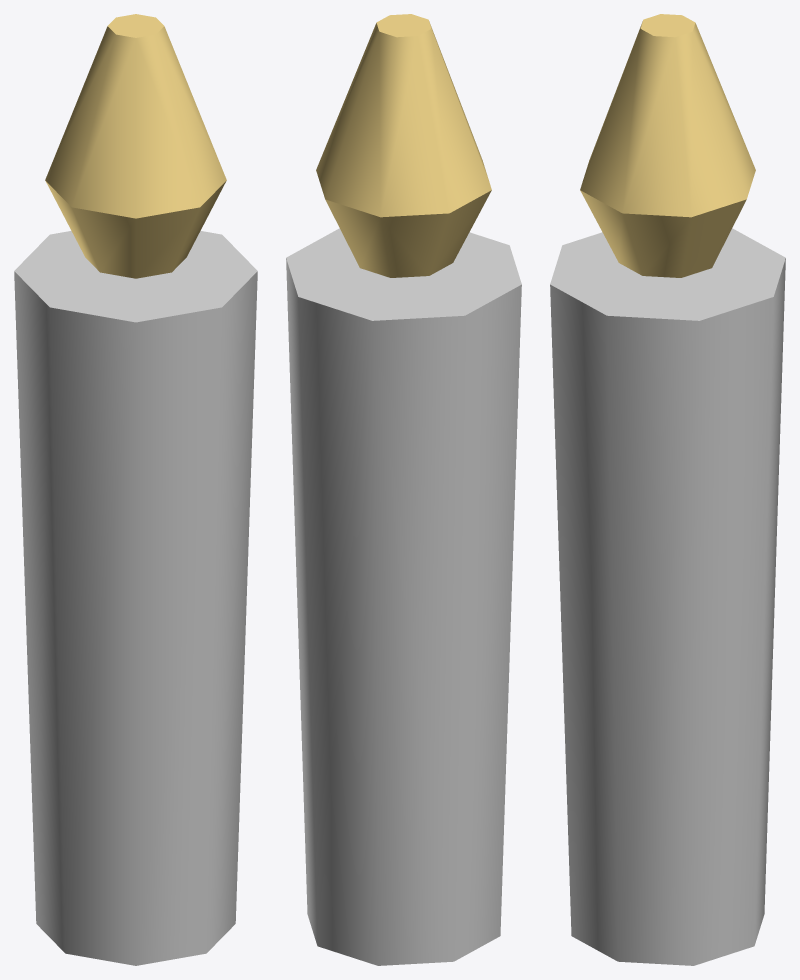
The model's file is candle.glb.
3 views of the same model, side by side, from view 1: azimuth 30°, elevation 25°; view 2: azimuth 150°, elevation 25°; view 3: azimuth 270°, elevation 25° (orthographic).
Parts seen in each view (by area): view 1: slice.001; view 2: slice.001; view 3: slice.001.
Part boxes in pixels (x1,y1,x2,y2): slice.001: [14, 14, 257, 965]; slice.001: [286, 14, 521, 965]; slice.001: [550, 14, 785, 965].
Size of the model in its own units: 0.1694 by 0.7132 by 0.1694.
